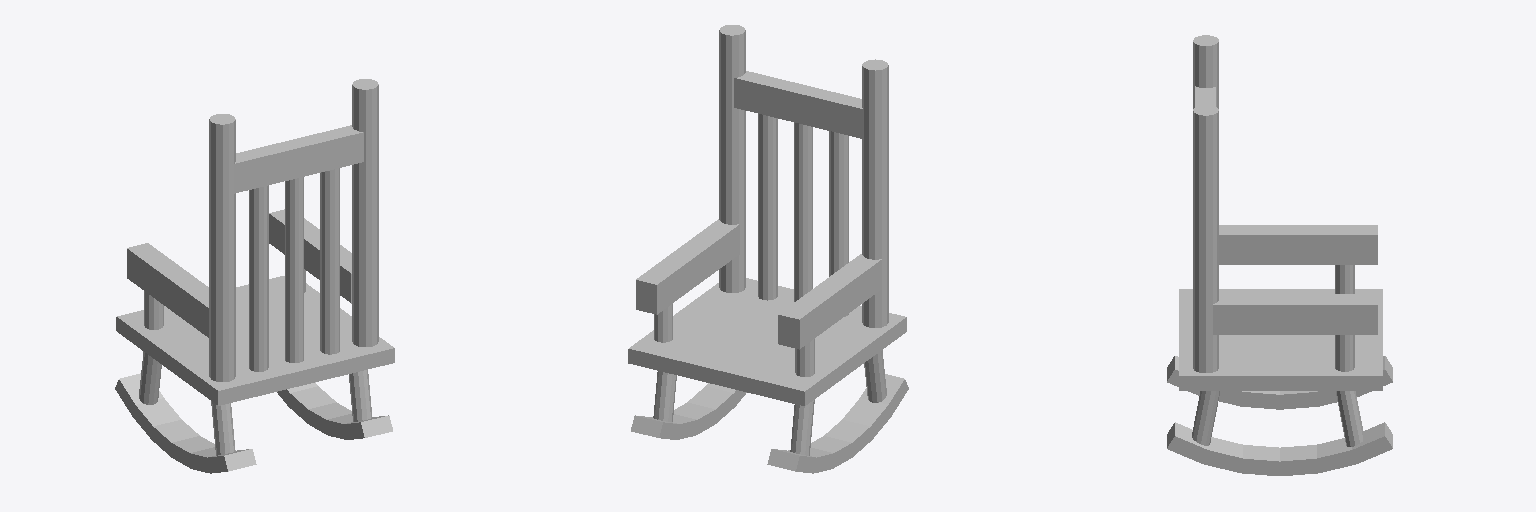
The model's file is Chair.obj.
The picture shows the model from 3 angles: view 1: azimuth 30°, elevation 25°; view 2: azimuth 150°, elevation 25°; view 3: azimuth 270°, elevation 25°; orthographic projection.
Parts seen in each view (by area): view 1: Chair; view 2: Chair; view 3: Chair.
Part boxes in pixels (left/top/right/bottom): Chair: left=115, top=79, right=394, bottom=473; Chair: left=628, top=25, right=908, bottom=473; Chair: left=1167, top=35, right=1392, bottom=475.
Size of the model in its own units: 1.24 by 2.42 by 1.38.